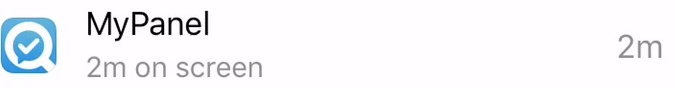name: (83, 3, 223, 41)
time: (84, 50, 132, 88)
